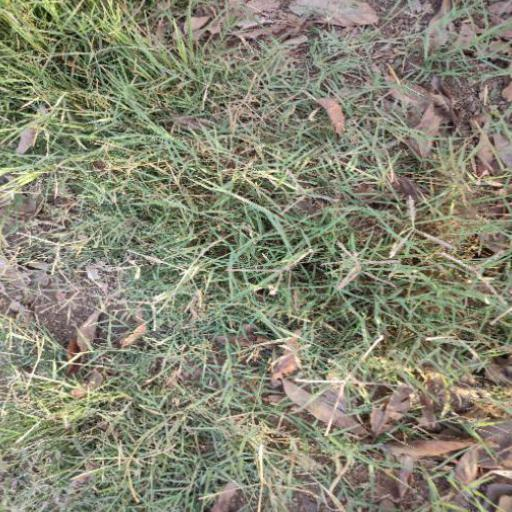weed: (29, 20, 478, 474)
